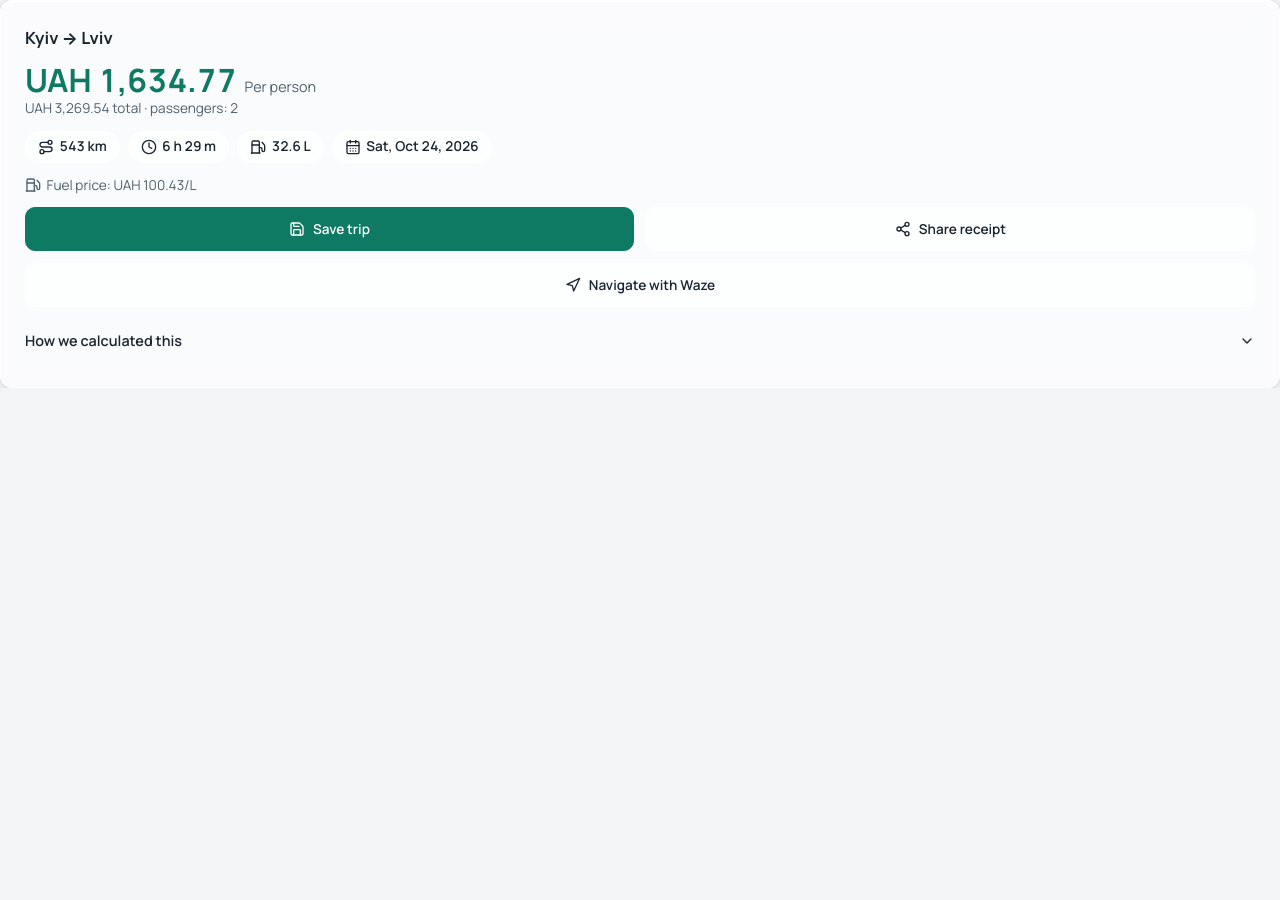
TripSummaryCard › keeps the arithmetic behind a disclosure, with legs that add up to the displayed total
Step 1. Click the button "How we calculated this" → (104, 341), box [25,319,1255,363]
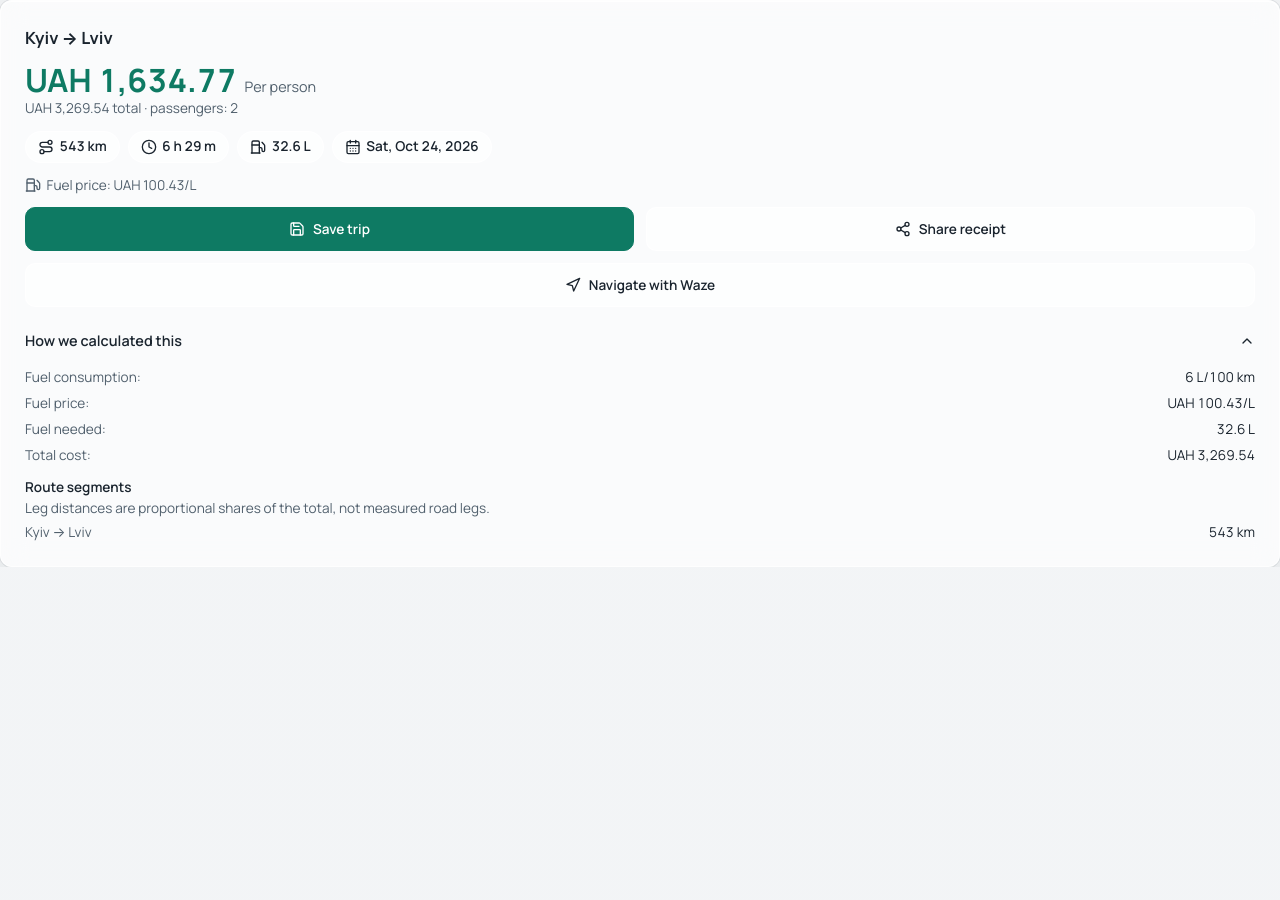
Expected: the button "How we calculated this" is expanded, [25,319,1255,363]
